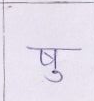u_matra: (46, 71, 64, 83)
